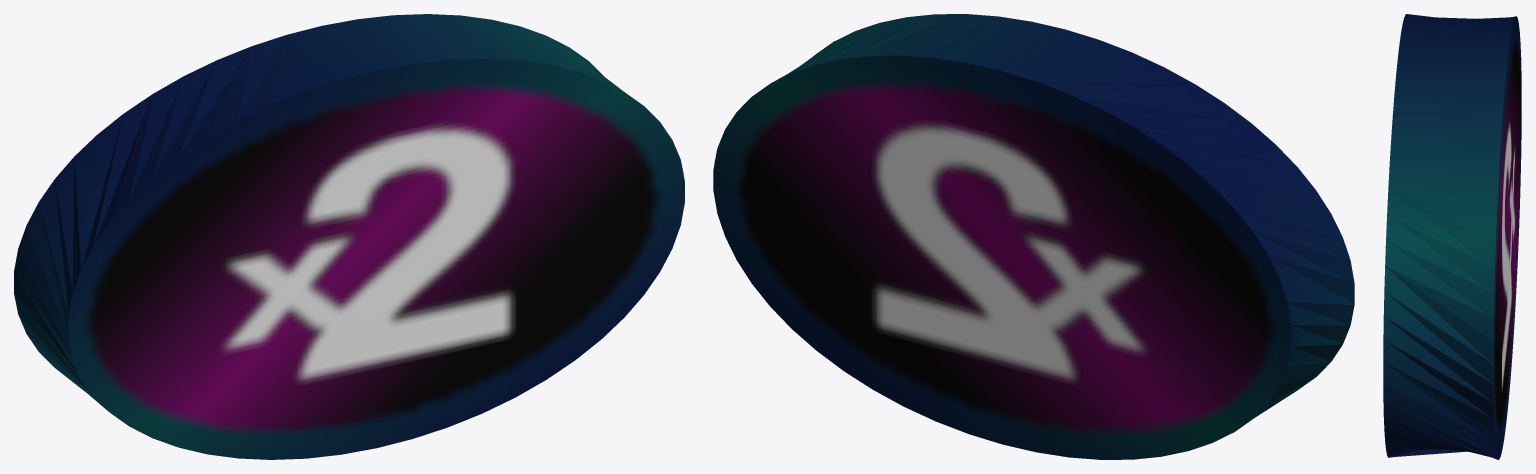
3 views of the same model, side by side, from view 1: azimuth 30°, elevation 25°; view 2: azimuth 150°, elevation 25°; view 3: azimuth 270°, elevation 25° (orthographic). The views are drawn at different scales.
Visible parts, largest first — view 1: Объект_Сфера_2; view 2: Объект_Сфера_2; view 3: Объект_Сфера_2.
Part boxes in pixels (bbox=[...]): Объект_Сфера_2: bbox=[14, 14, 684, 459]; Объект_Сфера_2: bbox=[713, 14, 1354, 459]; Объект_Сфера_2: bbox=[1383, 14, 1521, 459].
Size of the model in its own units: 335 by 200 by 71.58.
1 material, 1 textured.
